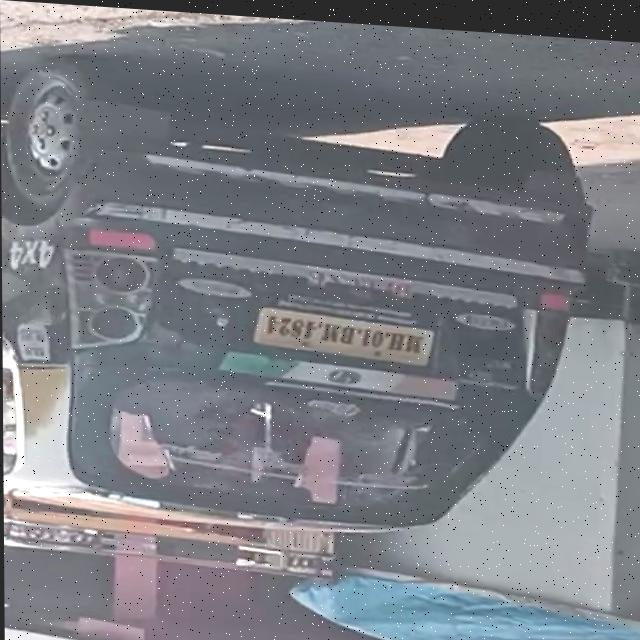plate: (242, 293, 447, 372)
